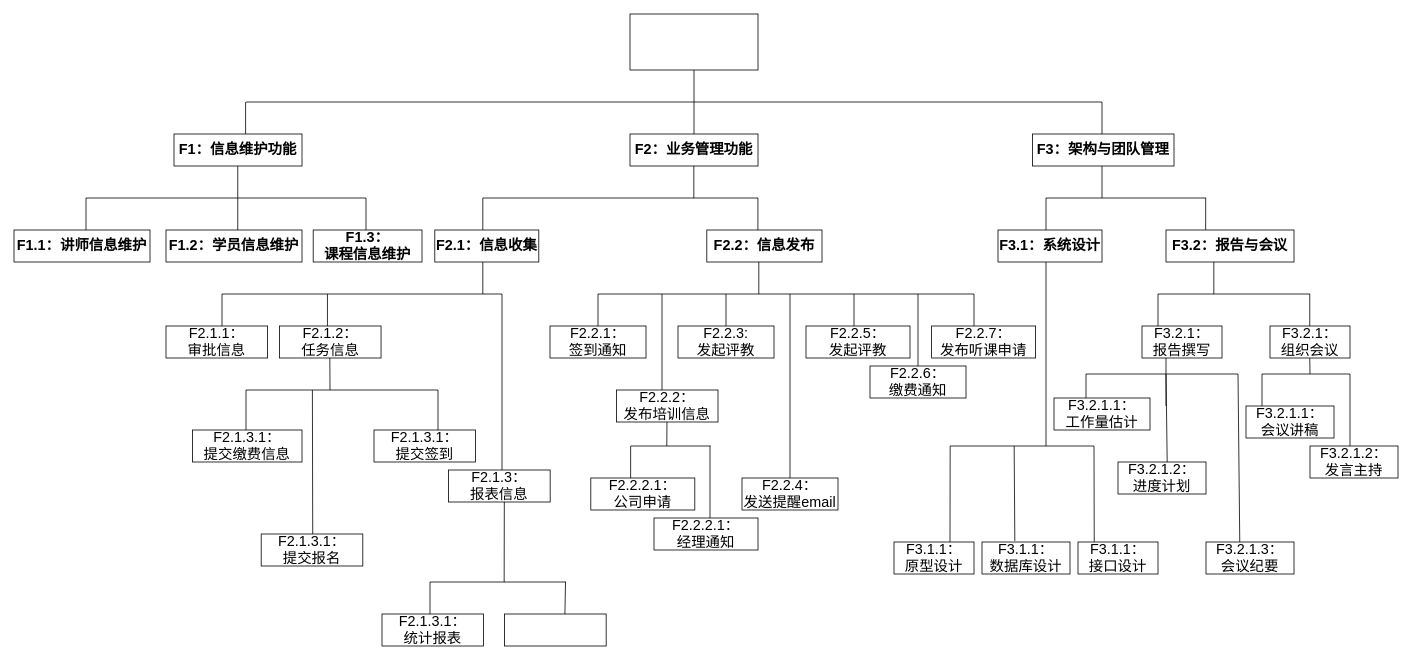
This 1412x661 diagram has some shape labels left out. The shapes that lost their labels are listed below. From the top down, each one's centre as x and y in pixels, then its label:
At point 693,41: "F：课程管理系统".
At point 555,629: "F2.1.3.2： 查询报表".
